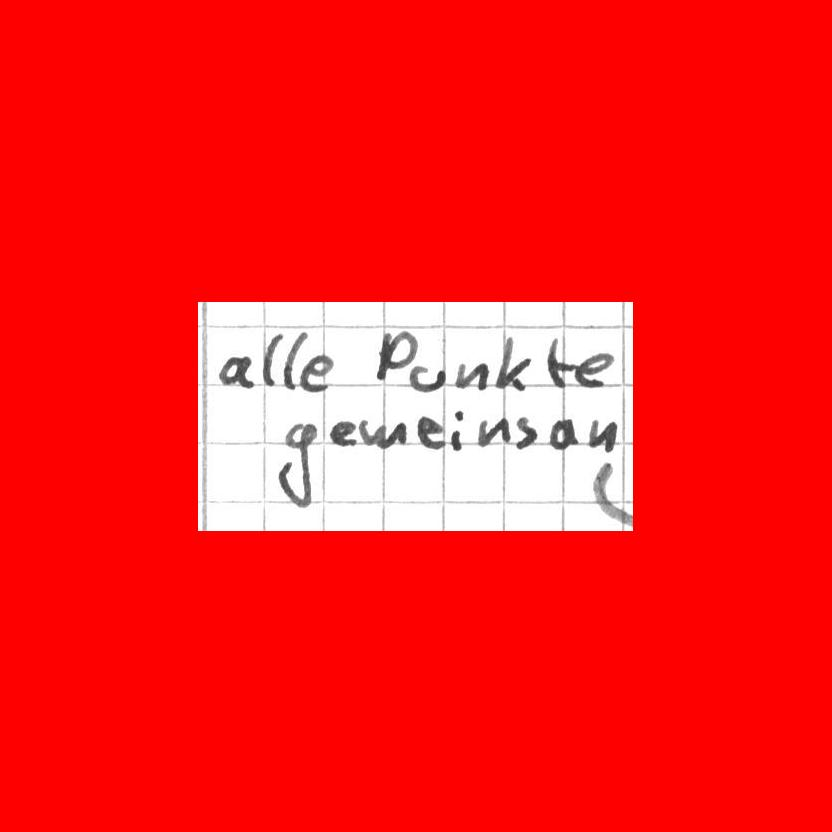Char: (271, 421, 318, 511), (374, 328, 418, 384), (494, 334, 532, 392), (573, 350, 619, 389), (281, 330, 309, 390), (358, 419, 410, 451), (543, 335, 574, 388), (216, 351, 257, 390), (292, 351, 330, 393), (407, 361, 449, 395), (474, 414, 512, 451), (586, 415, 620, 456), (545, 413, 579, 452), (455, 359, 492, 393), (262, 330, 284, 387), (417, 413, 445, 450), (328, 415, 358, 448), (450, 408, 471, 454), (513, 413, 538, 449)
